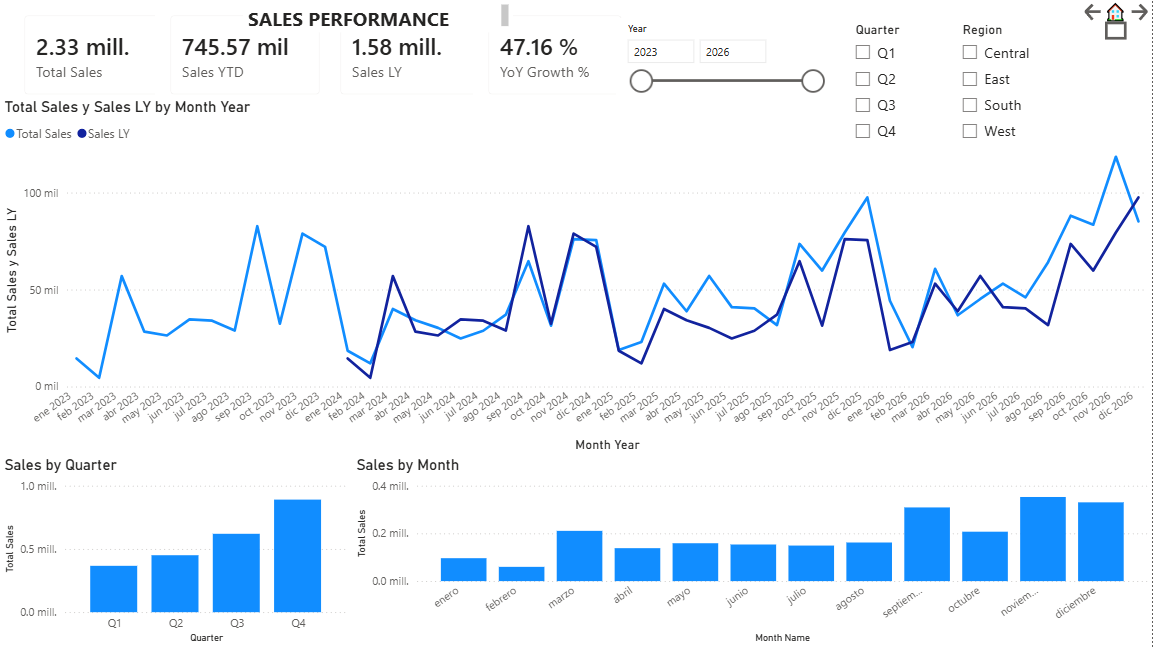

Layout of this report page (visuals, bound fields, positions):
{"tool":"powerbi","page":{"name":"Sales Performance","canvas":[1280,720],"ordinal":3},"visuals":[{"type":"cardVisual","fields":{"Data":["Orders.Total Sales"]},"box":[9.8,0,197.6,122.7],"z":0},{"type":"cardVisual","fields":{"Data":["Orders.Sales YTD"]},"box":[172.2,0,200.6,122.9],"z":1000},{"type":"cardVisual","fields":{"Data":["Orders.Sales LY"]},"box":[360.8,0,208.6,122.7],"z":2000},{"type":"cardVisual","fields":{"Data":["Orders.YoY Growth %"]},"box":[525.3,0,182.9,122.7],"z":3000},{"type":"lineChart","title":"Total Sales y Sales LY by Month Year","fields":{"Category":["Calendar.Month Year"],"Y":["Orders.Total Sales","Orders.Sales LY"]},"box":[0,109.2,1280,398],"z":4000},{"type":"clusteredColumnChart","title":"Sales by Quarter","fields":{"Category":["Calendar.Quarter"],"Y":["Orders.Total Sales"]},"box":[0,507.2,391.2,212.5],"z":5000},{"type":"clusteredColumnChart","title":"Sales by Month","fields":{"Y":["Orders.Total Sales"],"Category":["Calendar.Month Name"]},"box":[391,507,889,213],"z":6000},{"type":"slicer","fields":{"Values":["Calendar.Year"]},"box":[684.7,20.5,240.3,124.4],"z":7000},{"type":"slicer","fields":{"Values":["Calendar.Quarter"]},"box":[938.3,20.5,118.3,154.6],"z":8000},{"type":"slicer","fields":{"Values":["Orders.Region"]},"box":[1056.6,20.5,144.9,160.6],"z":9000},{"type":"actionButton","box":[1201,0,27,27],"z":10000},{"type":"actionButton","title":"🏠","box":[1228,0,24,44],"z":11000},{"type":"actionButton","box":[1252,0,28,27],"z":12000}]}

Visuals, with their boxes in screenshot pixels (x1, y1, x2, y2), scaled from the page's 1280x720 canvas onto the 1153x648 screenshot:
cardVisual - Orders.Total Sales: [left=9, top=0, right=187, bottom=110]
cardVisual - Orders.Sales YTD: [left=155, top=0, right=336, bottom=111]
cardVisual - Orders.Sales LY: [left=325, top=0, right=513, bottom=110]
cardVisual - Orders.YoY Growth %: [left=473, top=0, right=638, bottom=110]
"Total Sales y Sales LY by Month Year" lineChart: [left=0, top=98, right=1152, bottom=456]
"Sales by Quarter" clusteredColumnChart: [left=0, top=456, right=352, bottom=647]
"Sales by Month" clusteredColumnChart: [left=352, top=456, right=1152, bottom=647]
slicer - Calendar.Year: [left=617, top=18, right=833, bottom=130]
slicer - Calendar.Quarter: [left=845, top=18, right=952, bottom=158]
slicer - Orders.Region: [left=952, top=18, right=1082, bottom=163]
actionButton: [left=1082, top=0, right=1106, bottom=24]
"🏠" actionButton: [left=1106, top=0, right=1128, bottom=40]
actionButton: [left=1128, top=0, right=1152, bottom=24]
